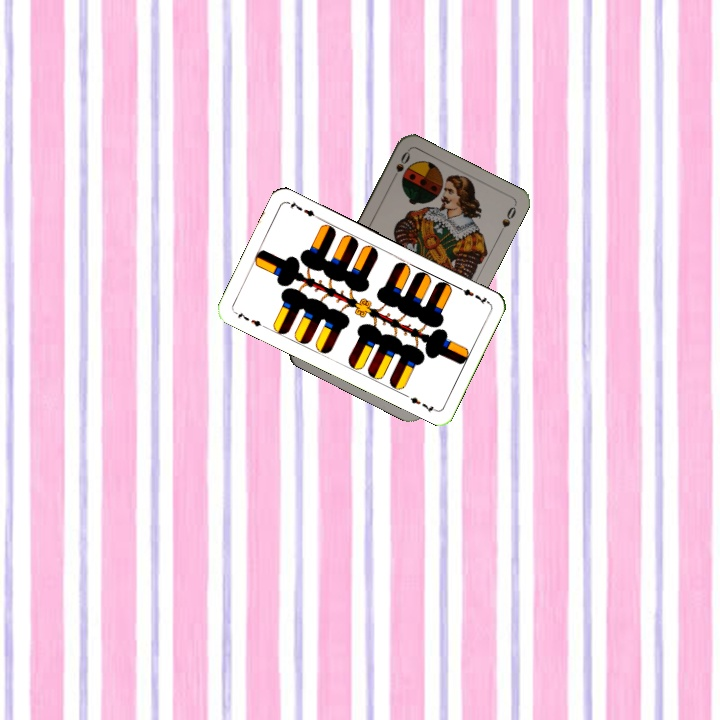E7: (453, 282, 491, 307), (231, 308, 269, 331)
SO: (387, 147, 413, 185)
